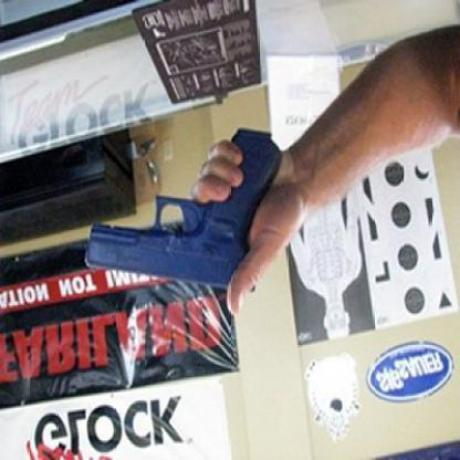1: (200, 28, 460, 318)
weapon: (78, 117, 288, 296)
